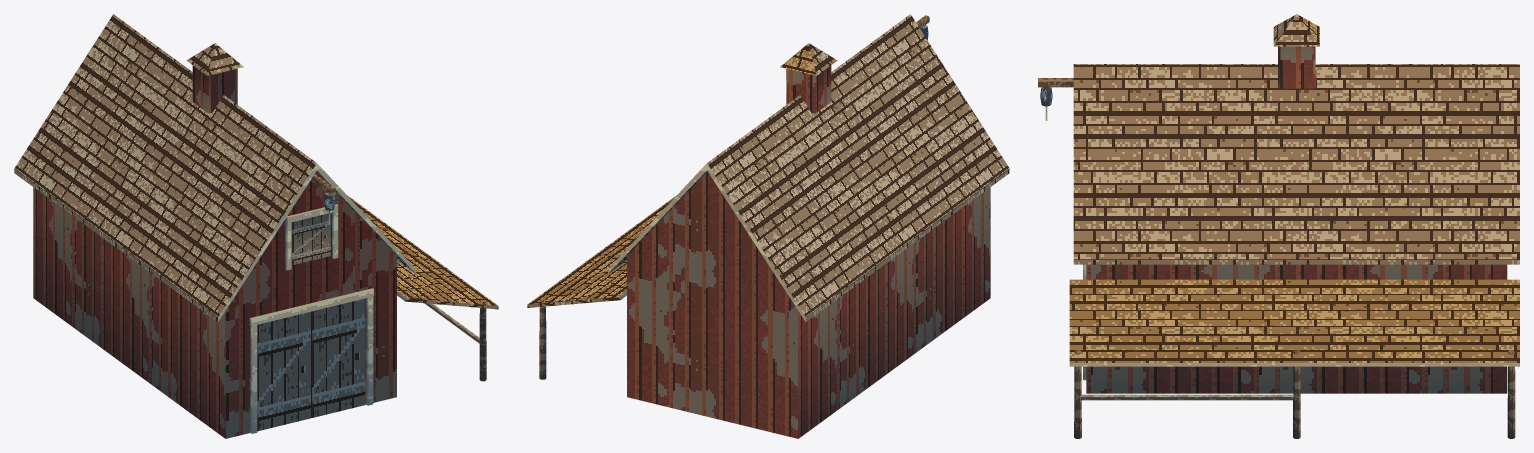
File: wtown.stable.glb
3 renders of one model, left to right at view 1: azimuth 30°, elevation 25°; view 2: azimuth 150°, elevation 25°; view 3: azimuth 270°, elevation 25°, orthographic. The views are drawn at different scales.
Visible parts, largest first — view 1: kit_roof, kit_body, kit_card_panes, kit_lean_to, kit_trim, kit_cupola, kit_cupola_cap; view 2: kit_body, kit_roof, kit_lean_to, kit_cupola, kit_cupola_cap; view 3: kit_roof, kit_lean_to, kit_body, kit_cupola, kit_lean_rail, kit_cupola_cap, kit_hoist.
Part boxes in pixels (<box>): kit_roof: <box>14,14,415,321</box>; kit_body: <box>33,171,396,438</box>; kit_card_panes: <box>257,213,365,431</box>; kit_lean_to: <box>347,195,498,381</box>; kit_trim: <box>249,204,373,433</box>; kit_cupola: <box>192,65,237,113</box>; kit_cupola_cap: <box>186,43,243,75</box>; kit_body: <box>627,171,990,438</box>; kit_roof: <box>608,14,1009,321</box>; kit_lean_to: <box>527,195,676,379</box>; kit_cupola: <box>786,65,831,113</box>; kit_cupola_cap: <box>780,43,837,75</box>; kit_roof: <box>1073,64,1519,264</box>; kit_lean_to: <box>1069,279,1519,438</box>; kit_body: <box>1086,264,1507,393</box>; kit_cupola: <box>1278,46,1315,88</box>; kit_lean_rail: <box>1080,394,1294,400</box>; kit_cupola_cap: <box>1273,14,1319,46</box>; kit_hoist: <box>1038,78,1073,106</box>.
Bounding box in the file's own units: 8.37 × 8.75 × 11.45.
Materials: 9 (9 with a texture image).
